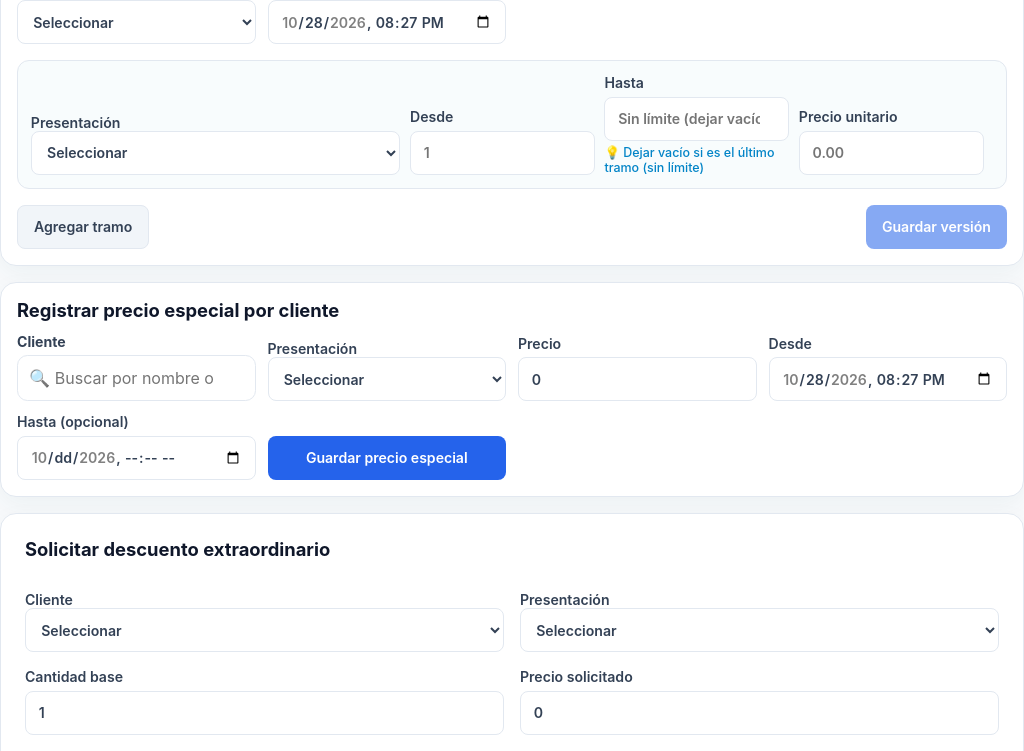
Test case: PricingPage › permite buscar cliente por nombre o código con lupa y seleccionar coincidencia en precio especial
(page scrolled)
expect the heading "Registrar precio especial por cliente" is shown: met, box top-left (17, 299), bottom-right (339, 321)
Note: Escribir para ver coincidencias
Type "Mary" into the dropdown with placeholder "Buscar por nombre o código..." below "Registrar precio especial por cliente" at (136, 378), box top-left (17, 355), bottom-right (256, 401)
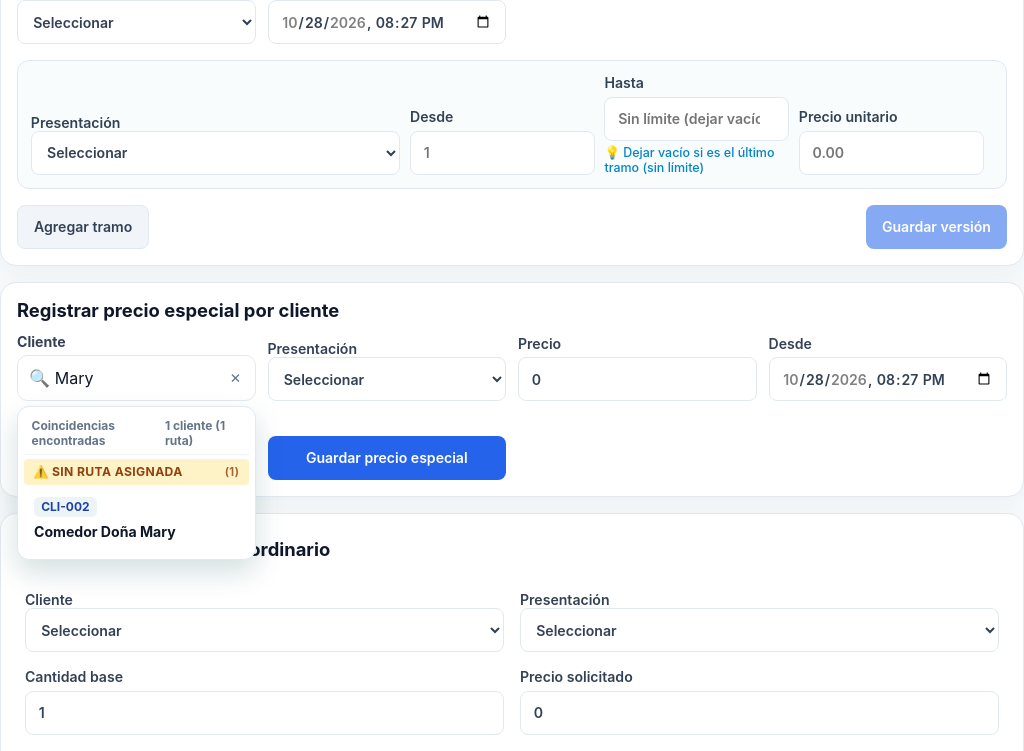
expect the list is shown: met, box top-left (17, 406), bottom-right (256, 560)
expect the option "CLI-002 Comedor Doña Mary" is shown: met
Note: Seleccionar la coincidencia
Click the option "CLI-002 Comedor Doña Mary" at (136, 519), box top-left (24, 489), bottom-right (249, 548)
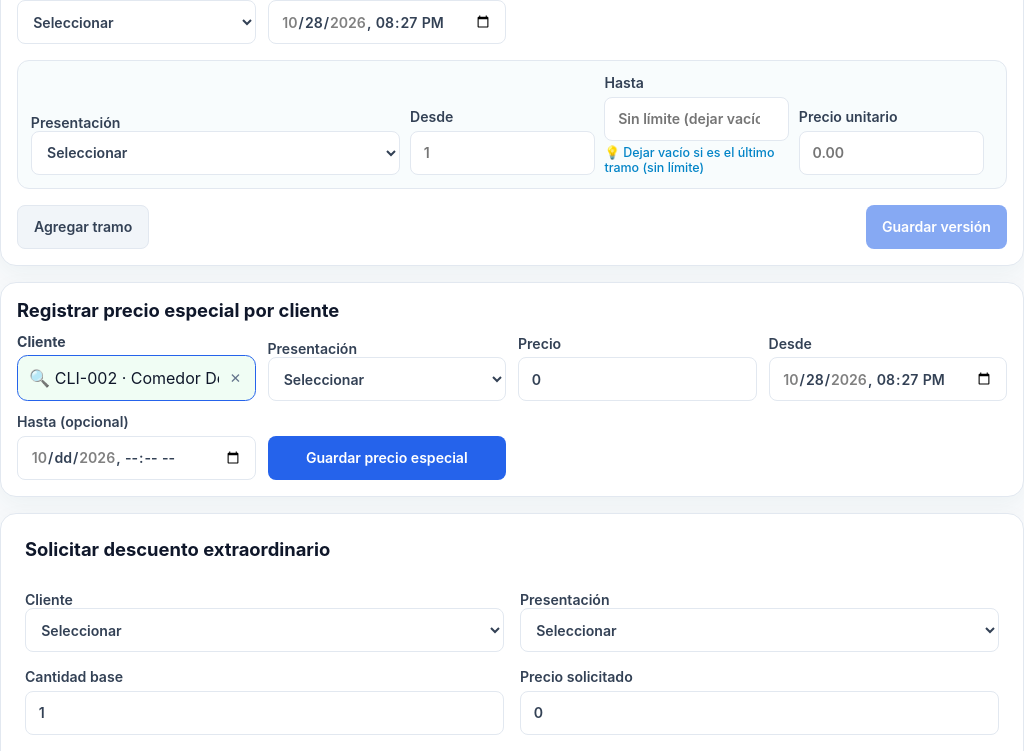
expect the dropdown with placeholder "Buscar por nombre o código..." below "Registrar precio especial por cliente" holds "CLI-002 · Comedor Doña Mary": met, box top-left (17, 355), bottom-right (256, 401)
